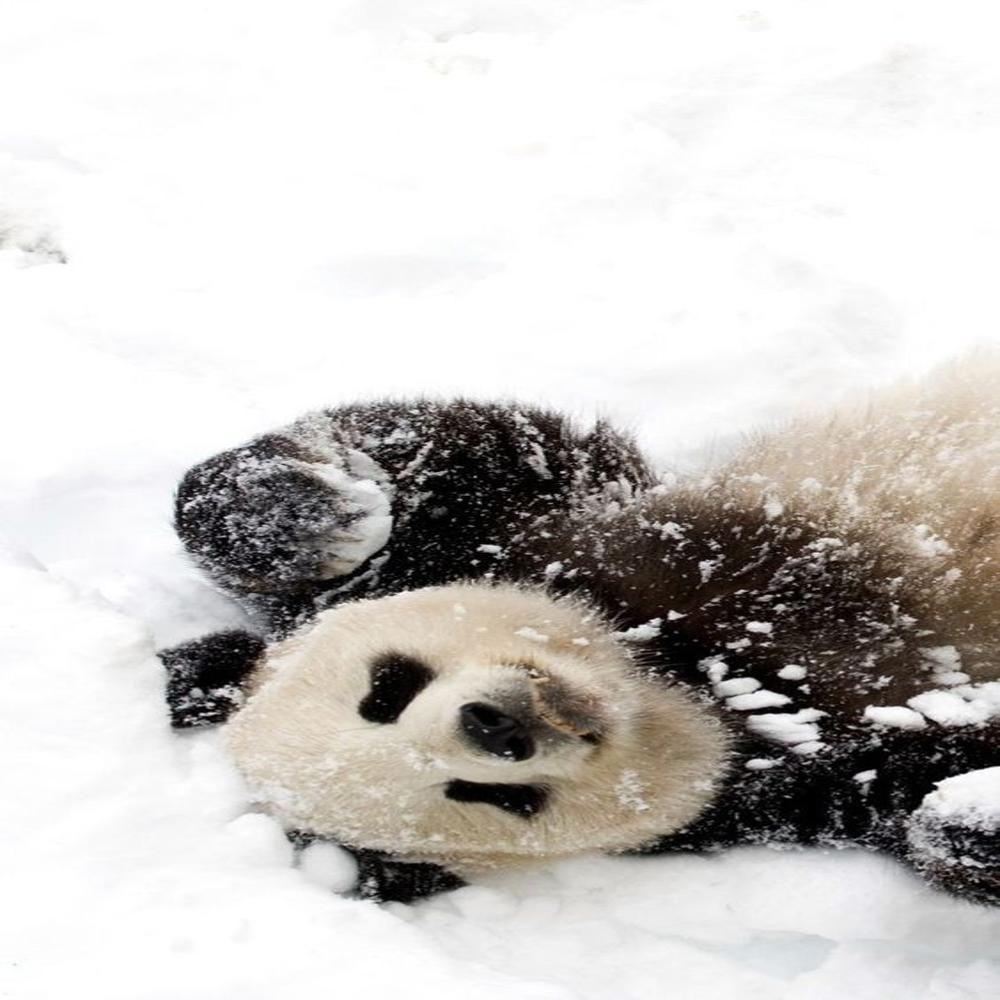panda: (166, 374, 1000, 905)
